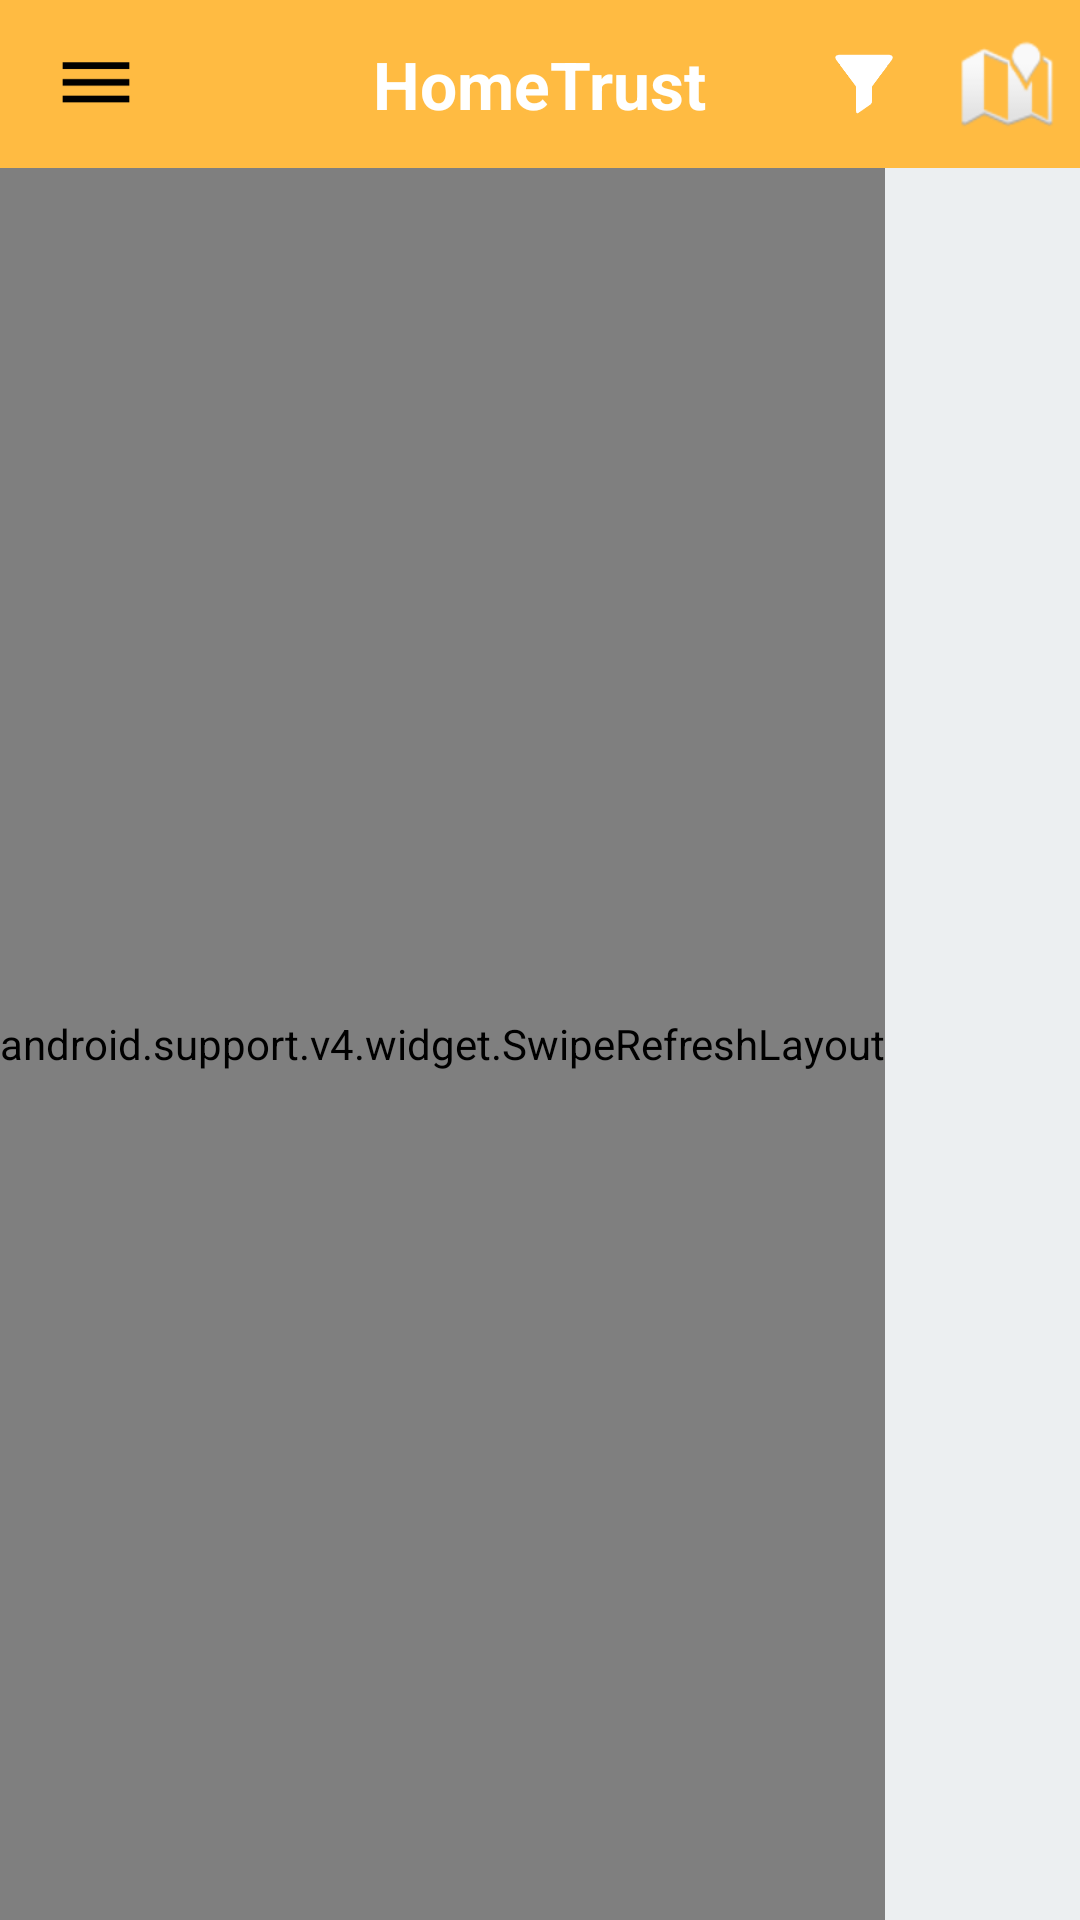

Screen size 1080*1920. Icon name, then its center in pixels as (x=x, y=y):
filter: (x=864, y=84)
map: (x=1007, y=84)
navigation: (x=96, y=82)
